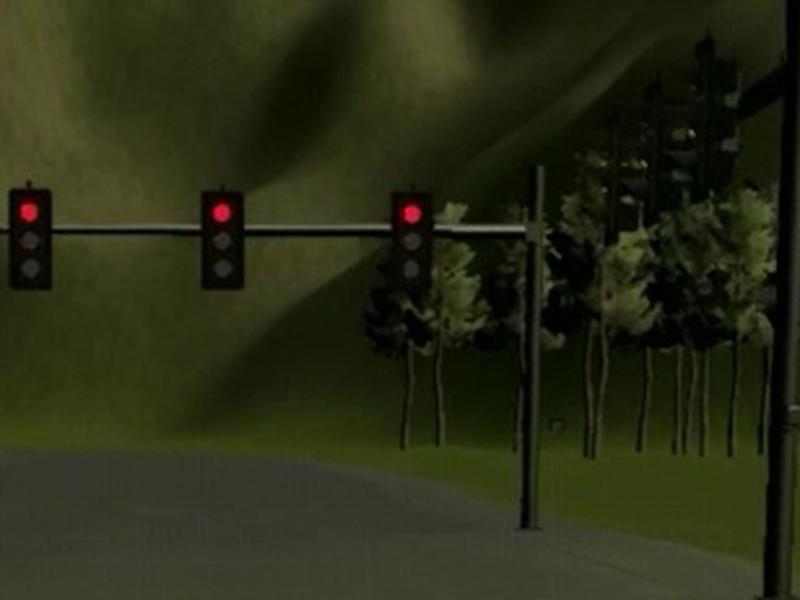Red: (8, 188, 54, 290), (201, 191, 245, 290), (392, 194, 434, 287)
